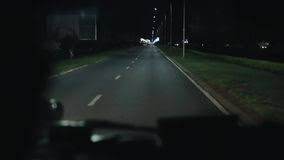strada: (55, 42, 230, 114)
